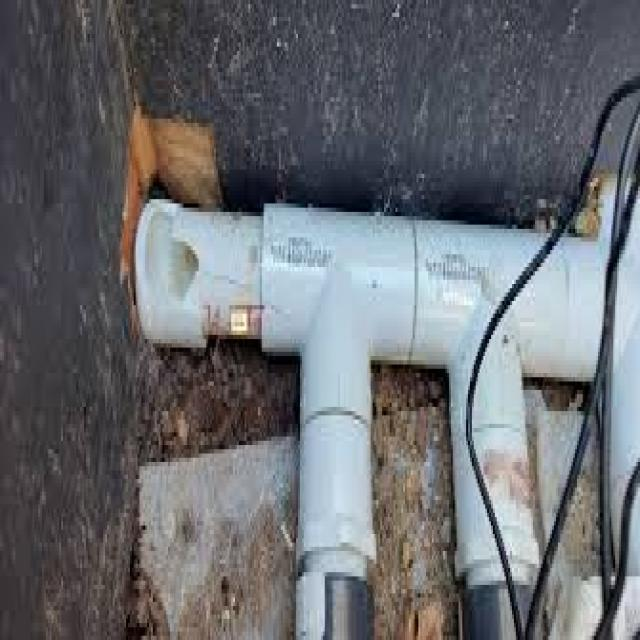hole: (139, 214, 198, 305)
